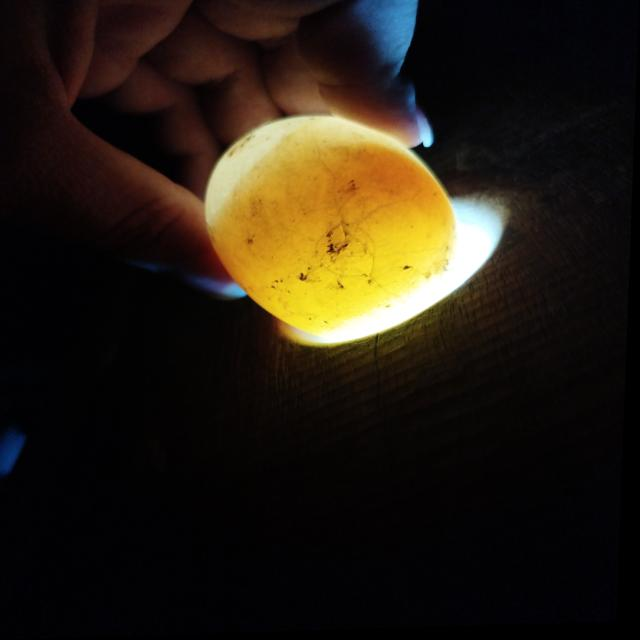Camara de Ar: (207, 118, 322, 226)
Rachadura: (318, 227, 376, 279)
